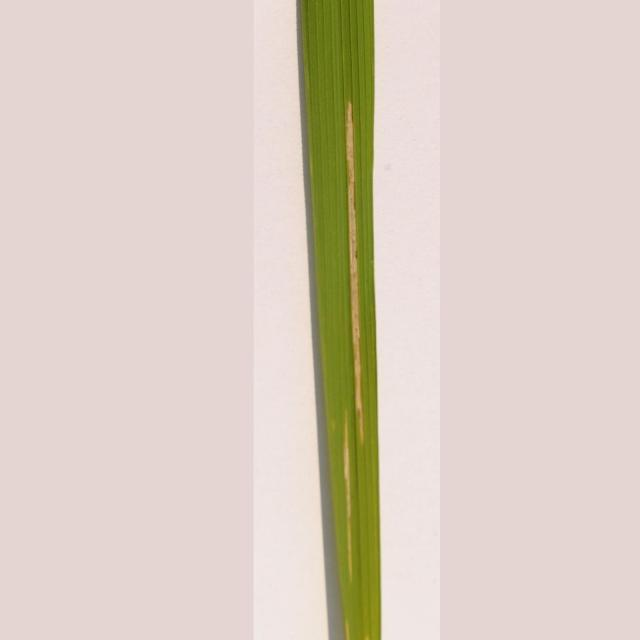Bacterial_Leaf_Blight: (326, 98, 408, 581)
